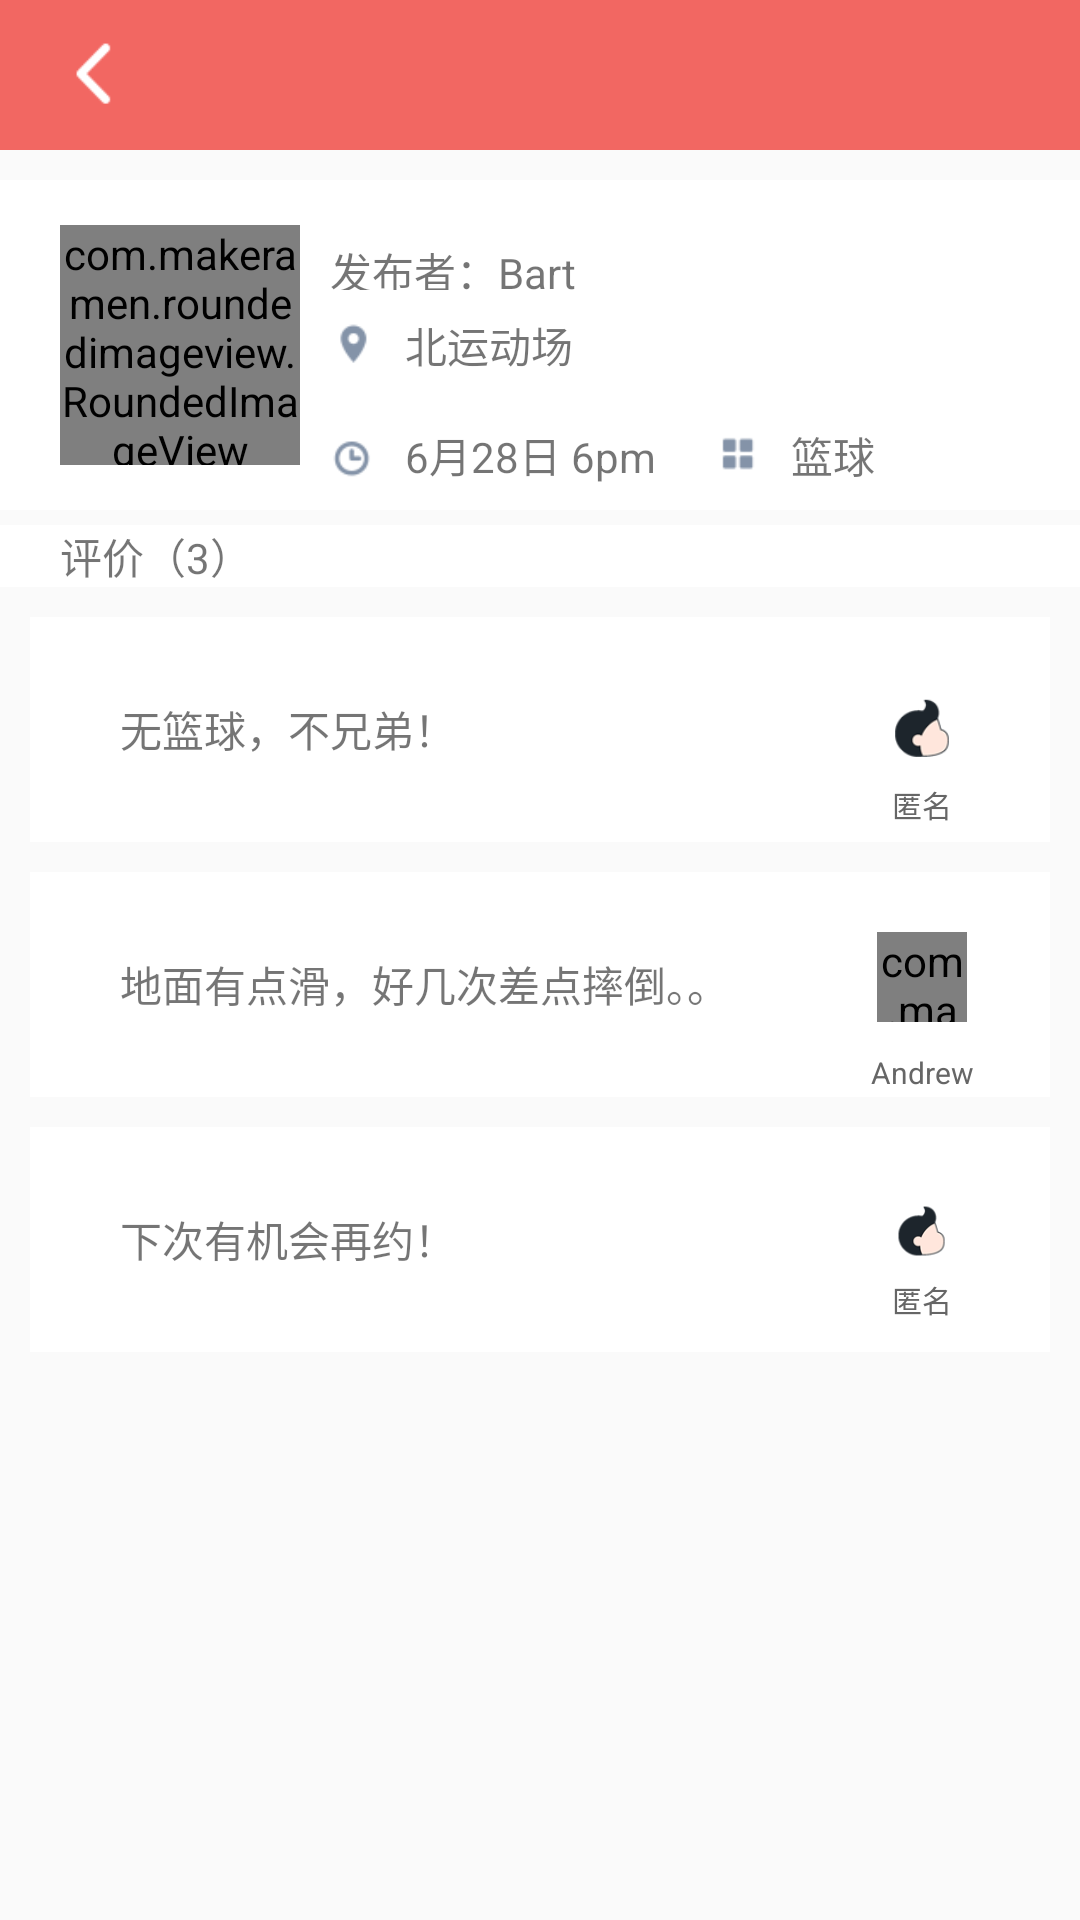

Screen size 1080w x 1920h. Icon name, then its box in pixels as box=[x1, y1, x2, y2]:
head: box=[895, 699, 949, 757], box=[898, 1206, 945, 1256]
